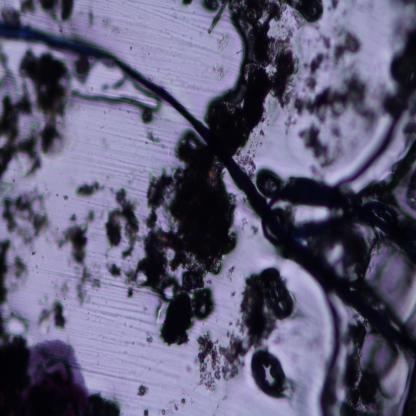Air bubble: (70, 60, 162, 117), (251, 345, 292, 398)
Background material: (139, 130, 237, 350), (213, 1, 328, 139), (0, 50, 70, 178), (57, 209, 104, 304), (294, 68, 386, 113), (381, 26, 416, 139), (241, 267, 295, 336), (0, 188, 52, 250), (101, 185, 140, 261), (193, 332, 245, 385), (307, 29, 361, 71), (298, 124, 338, 171), (270, 46, 300, 108), (33, 288, 69, 330), (0, 241, 27, 297), (55, 170, 104, 199), (19, 1, 77, 22), (106, 262, 135, 302), (72, 58, 91, 78), (138, 377, 152, 403), (141, 107, 155, 128), (202, 0, 219, 13), (172, 399, 186, 413), (388, 0, 416, 7), (87, 8, 99, 24), (329, 1, 345, 12), (227, 262, 236, 279), (250, 224, 258, 238), (139, 408, 151, 416), (184, 0, 194, 8), (160, 408, 165, 416)
Cotton: (0, 19, 416, 342)
Pen: (0, 331, 124, 416)
